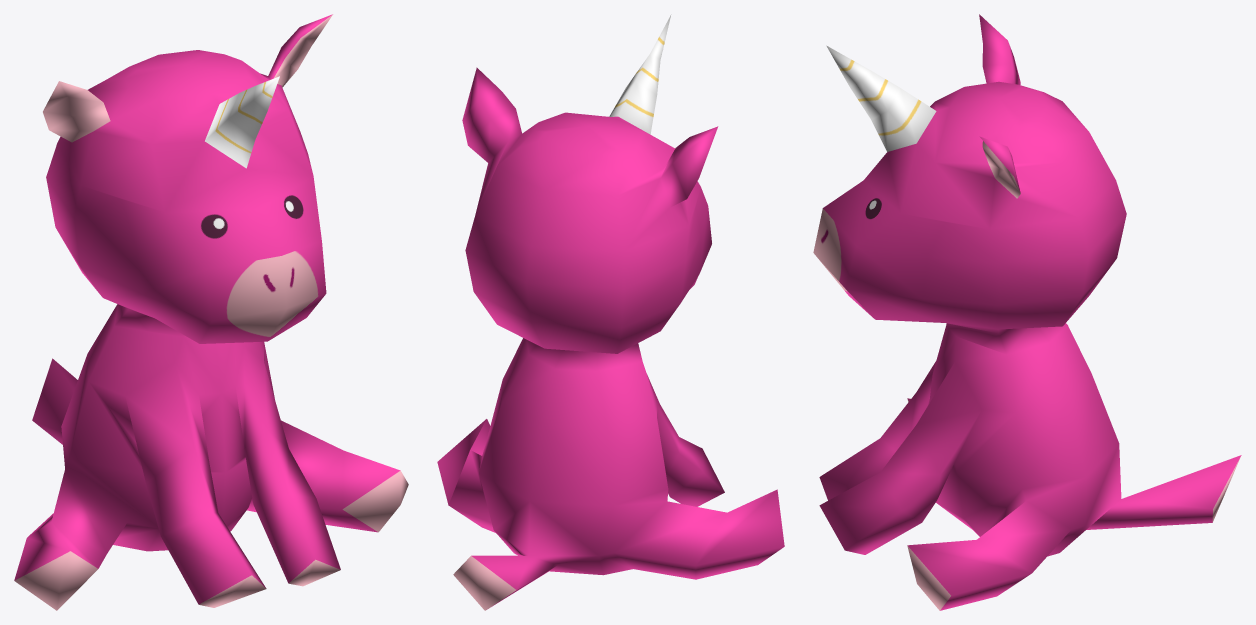
File: unicorn.fbx
The picture shows the model from 3 angles, left to right: view 1: azimuth 30°, elevation 25°; view 2: azimuth 150°, elevation 25°; view 3: azimuth 270°, elevation 25°; orthographic projection. The views are drawn at different scales.
Parts seen in each view (by area): view 1: Sphere; view 2: Sphere; view 3: Sphere.
Part boxes in pixels (<box>): Sphere: <box>14,14,408,610</box>; Sphere: <box>437,14,784,610</box>; Sphere: <box>813,14,1241,610</box>.
Bounding box in the file's own units: 252 × 332 × 259.
Materials: 1 (1 with a texture image).
